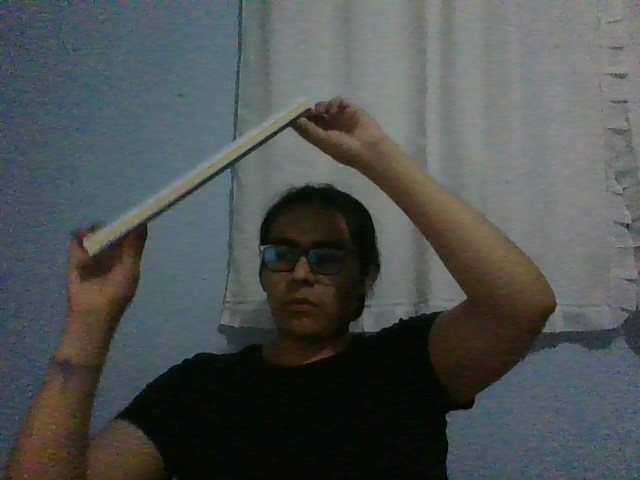regla: (81, 96, 309, 259)
